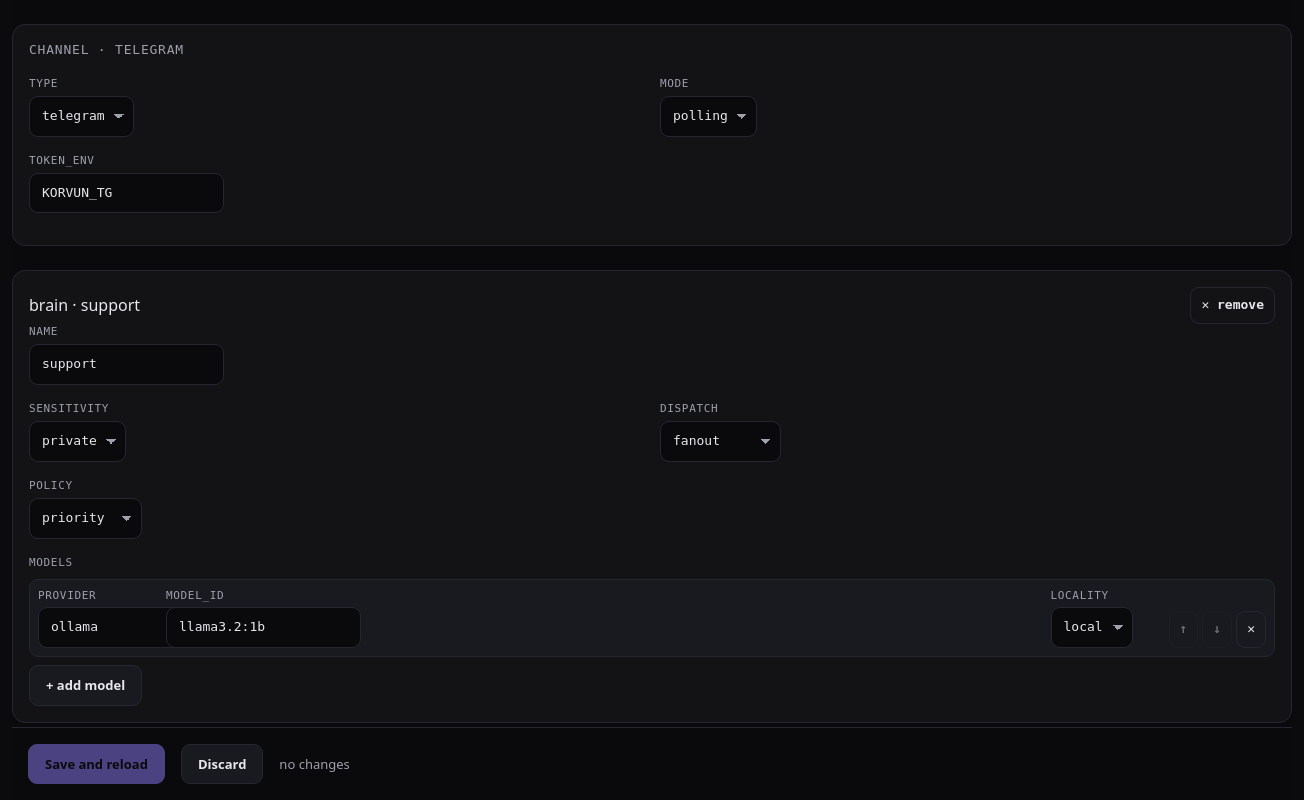
Test: ConfigEditor — reload state machine (2b.2b) › on succeeded, re-fetches the baseline so dirty clears
The image size is (1304, 800).
Replace the text in the field labelled "name" with "x" at [126, 365], box [29,344,224,385]
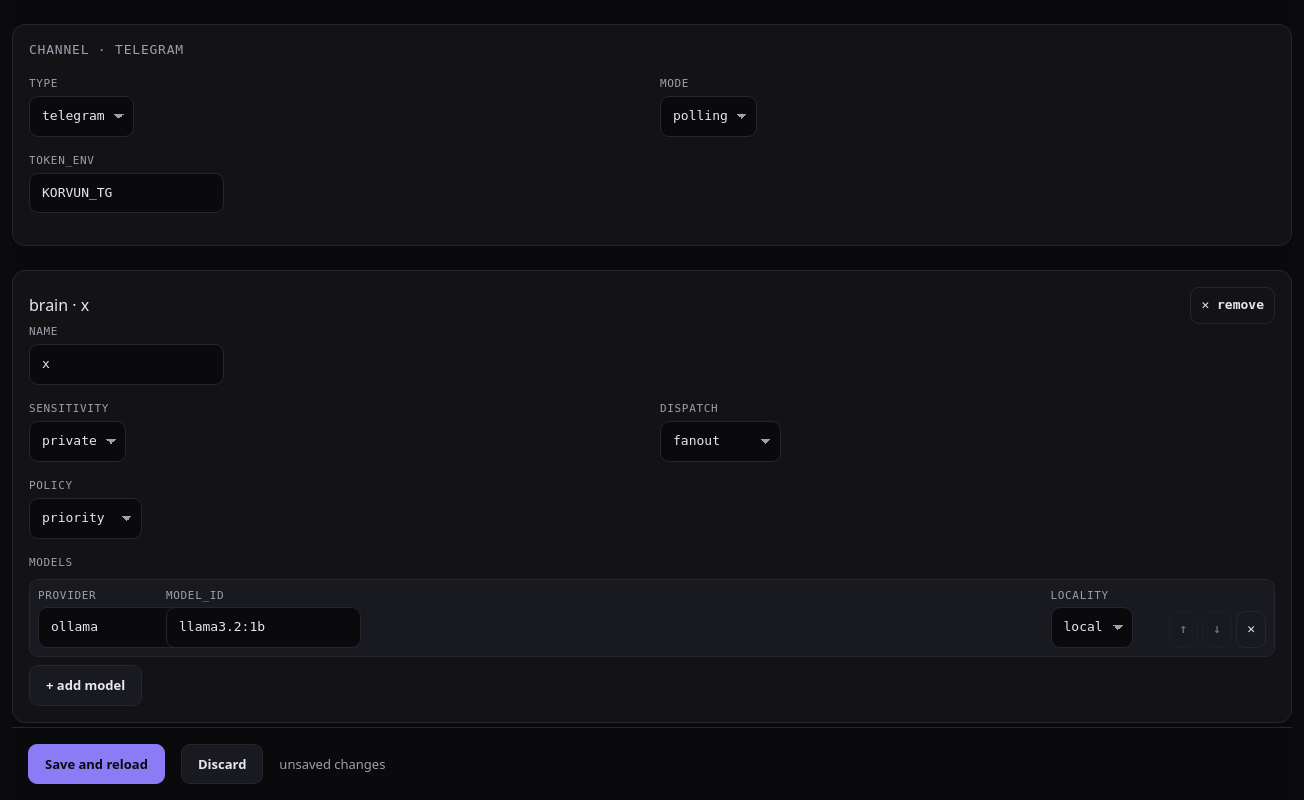
Click the button "Save and reload" at [96, 764], box [28,743,165,784]
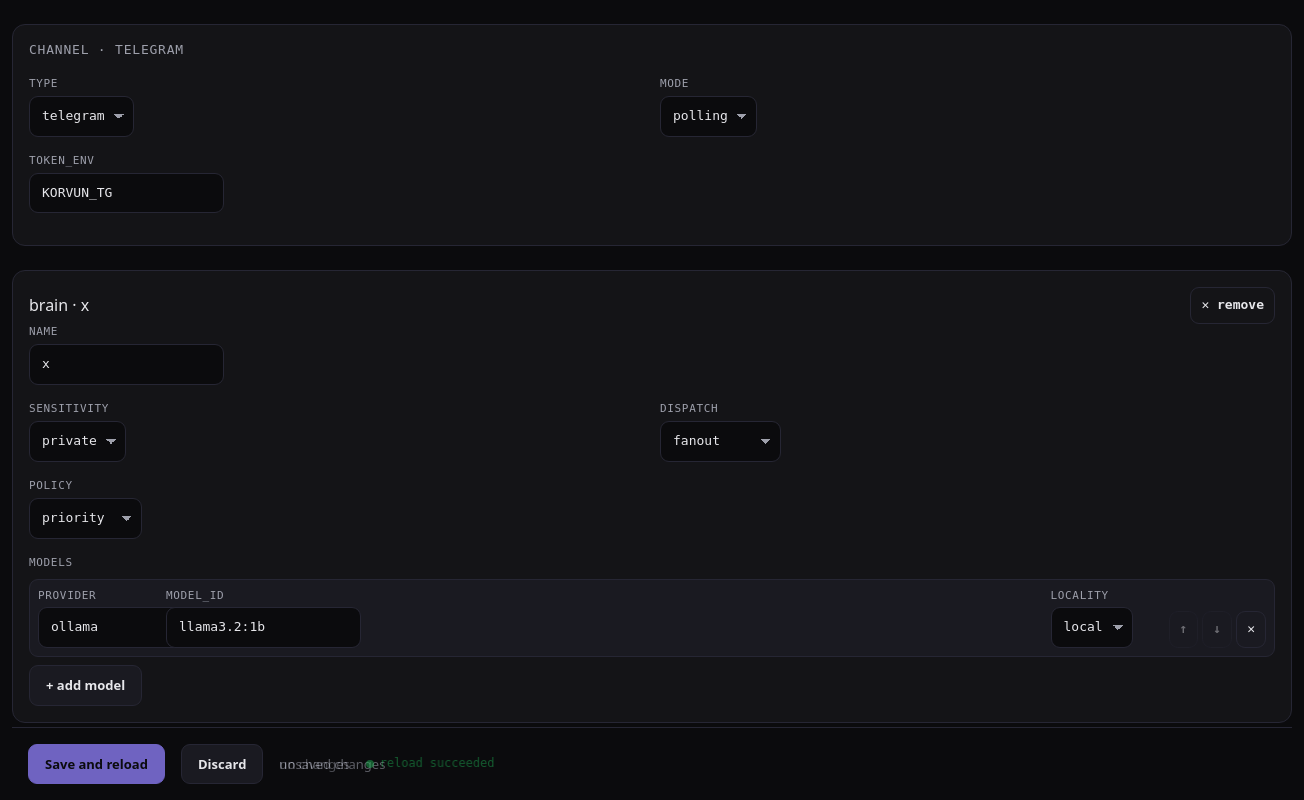
Check: the message "reload succeeded" is shown, box [366,755,495,772]
Check: the button "Save and reload" is disabled, box [28,743,165,784]
